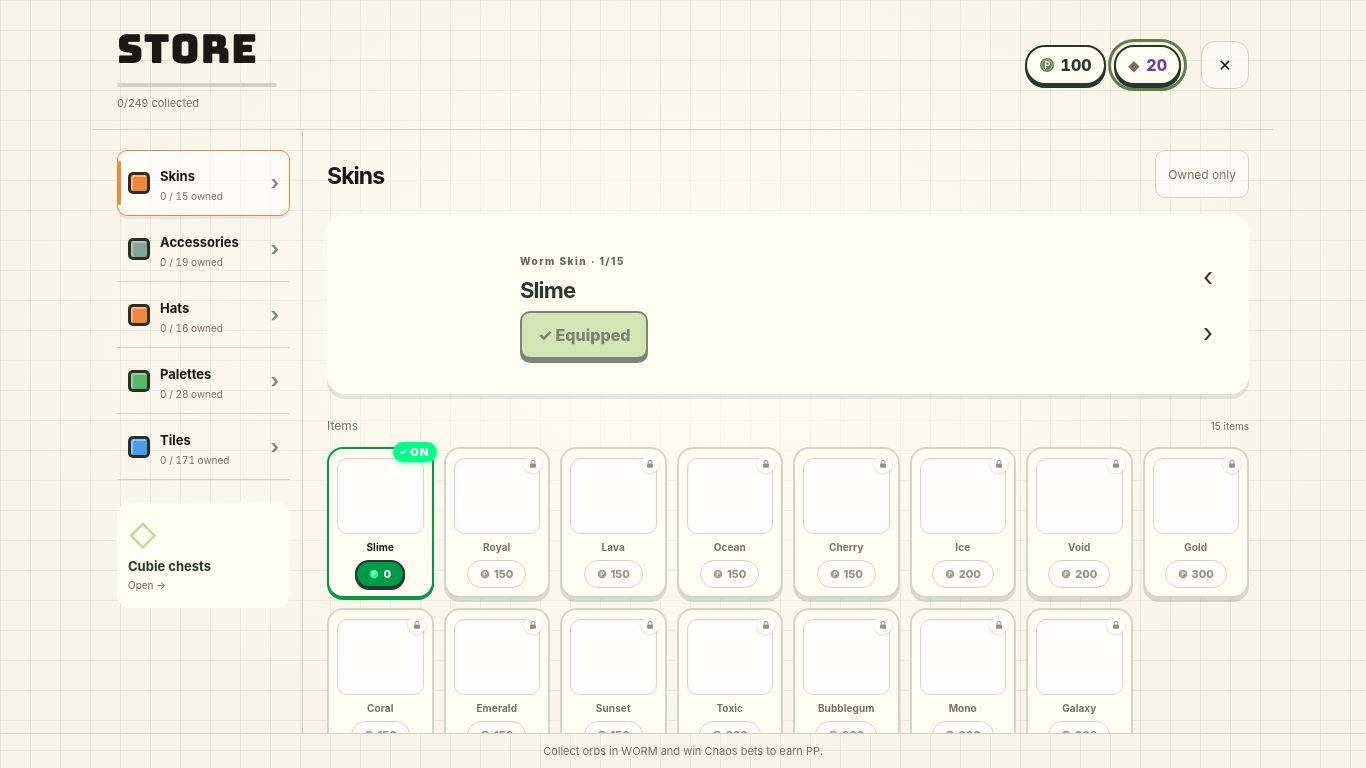
renders only the selected tile family and switches its preview
Click the button "Tiles 0 / 171 owned ›": [204, 447] box x1=117 y1=414 x2=290 y2=480
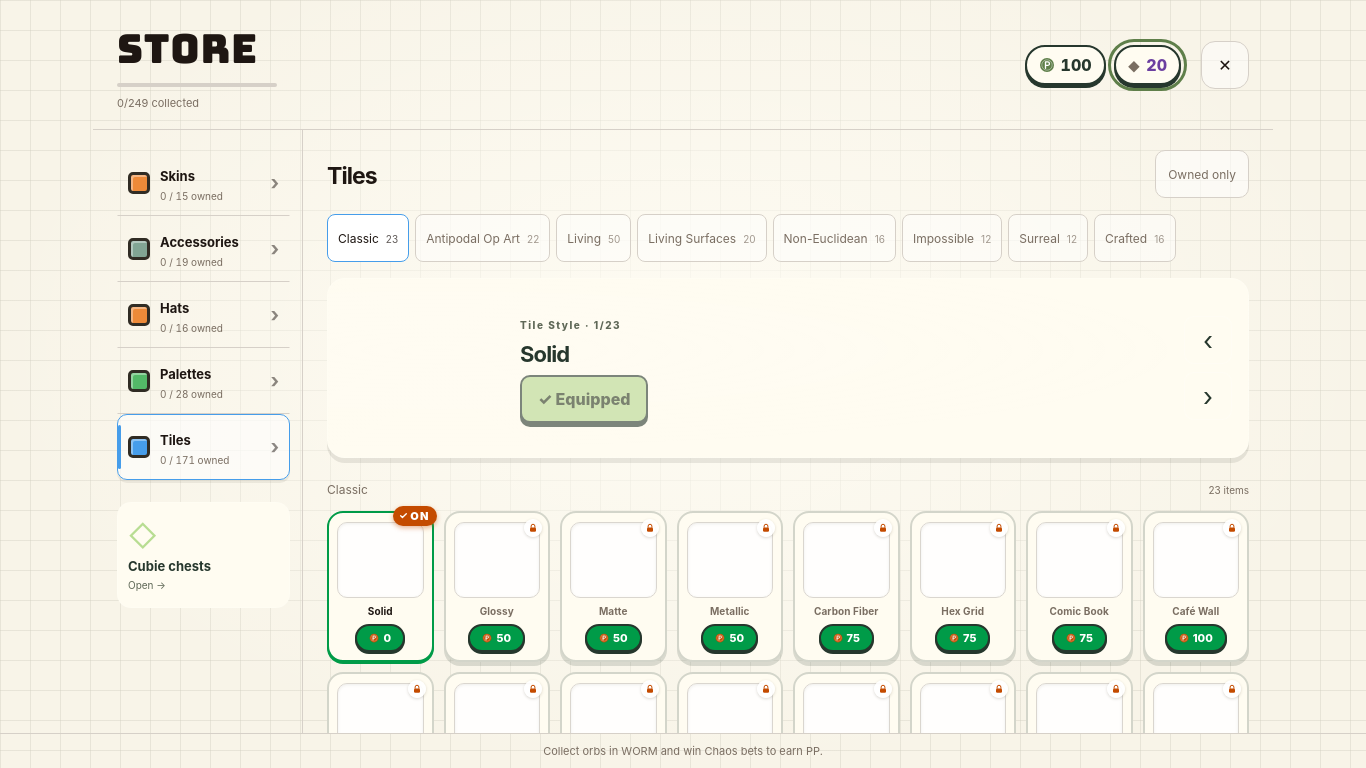
Click the button "Surreal12": [1048, 238] box x1=1008 y1=214 x2=1088 y2=262
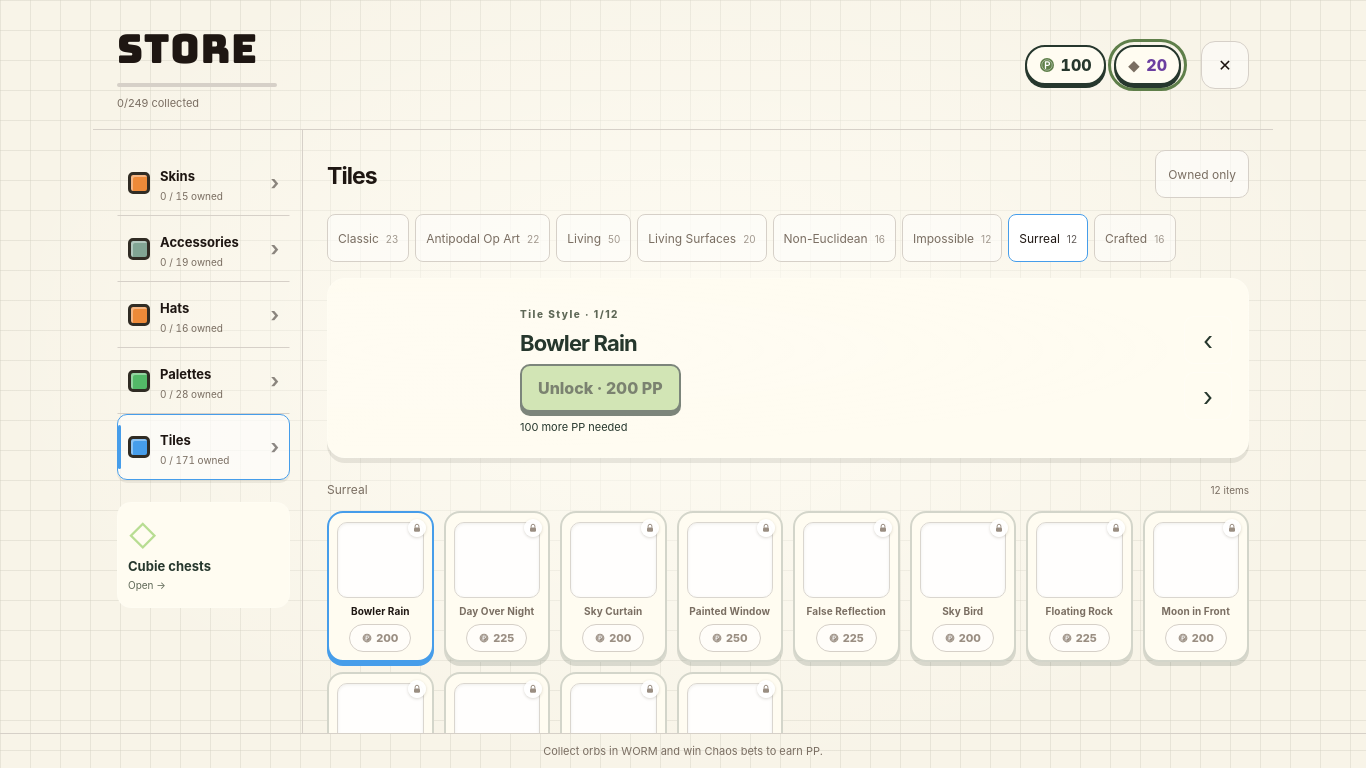
Result: the number of buttons with class "store-card" is 12
Result: the element with class "catalogue-grid-heading" shows "Surreal" at x1=327 y1=482 x2=368 y2=497
Click the button "›": [1208, 396] box x1=1184 y1=372 x2=1232 y2=420
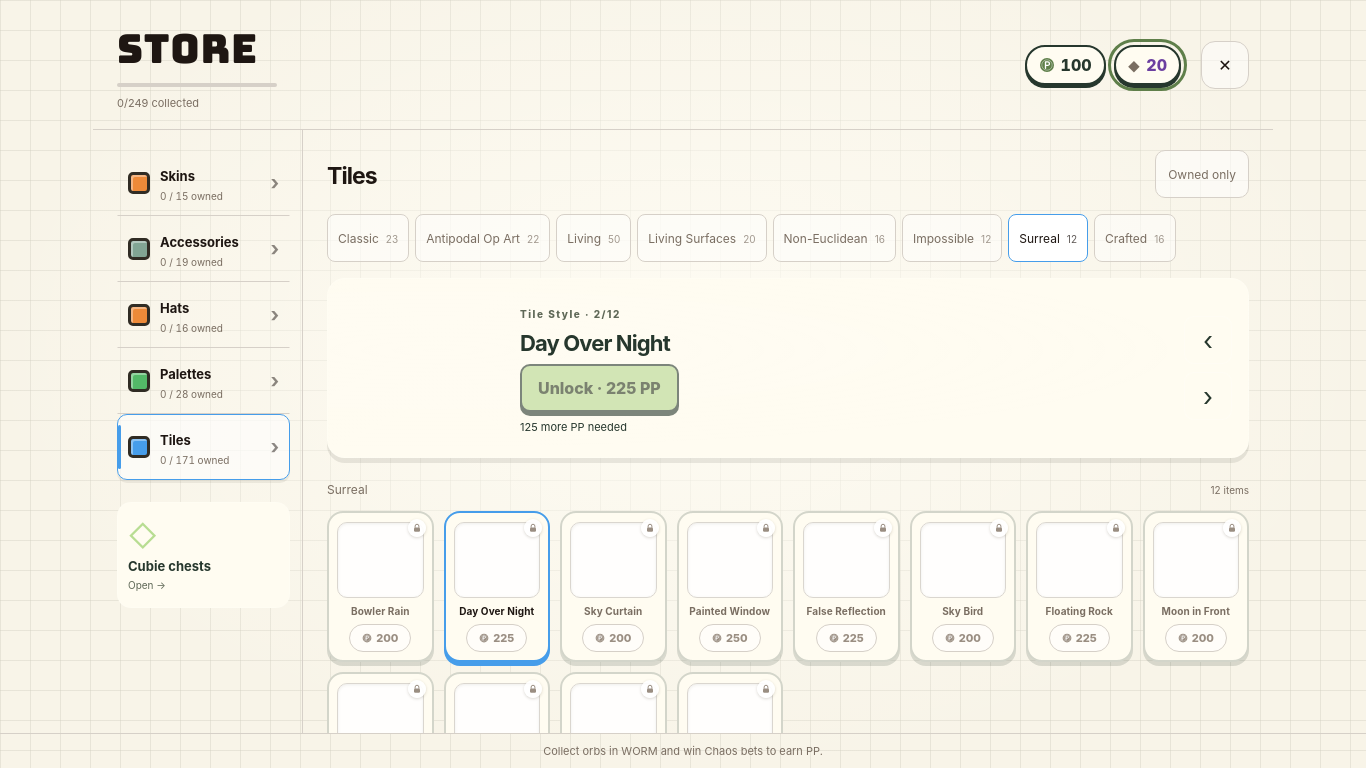
Result: the text "Bowler Rain" is gone
